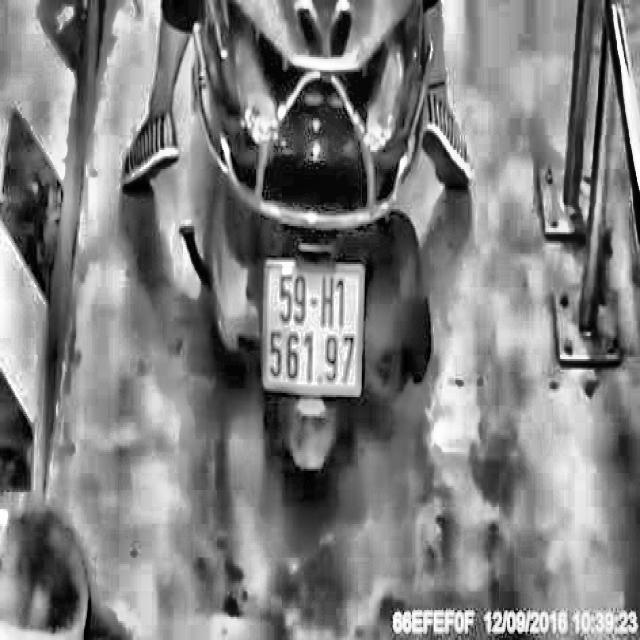plate: (261, 252, 366, 403)
